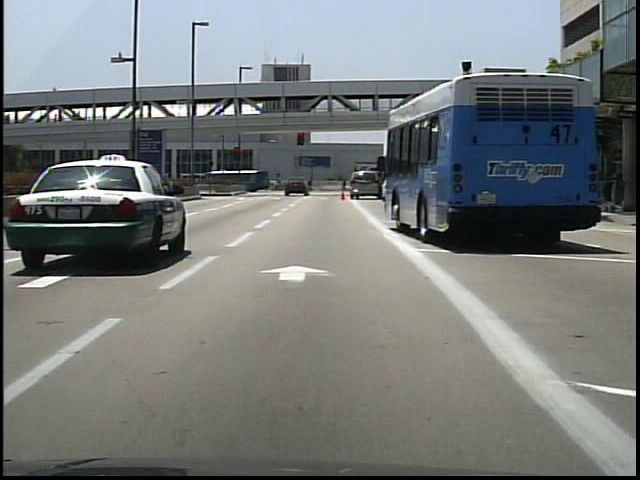person: (305, 178, 315, 194), (339, 177, 349, 192)
